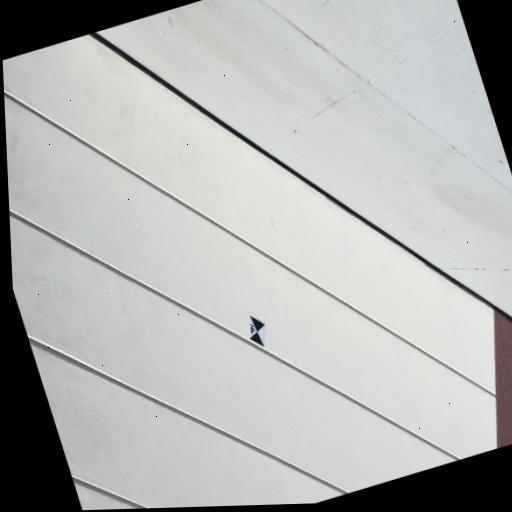target4: (250, 315, 265, 347)
